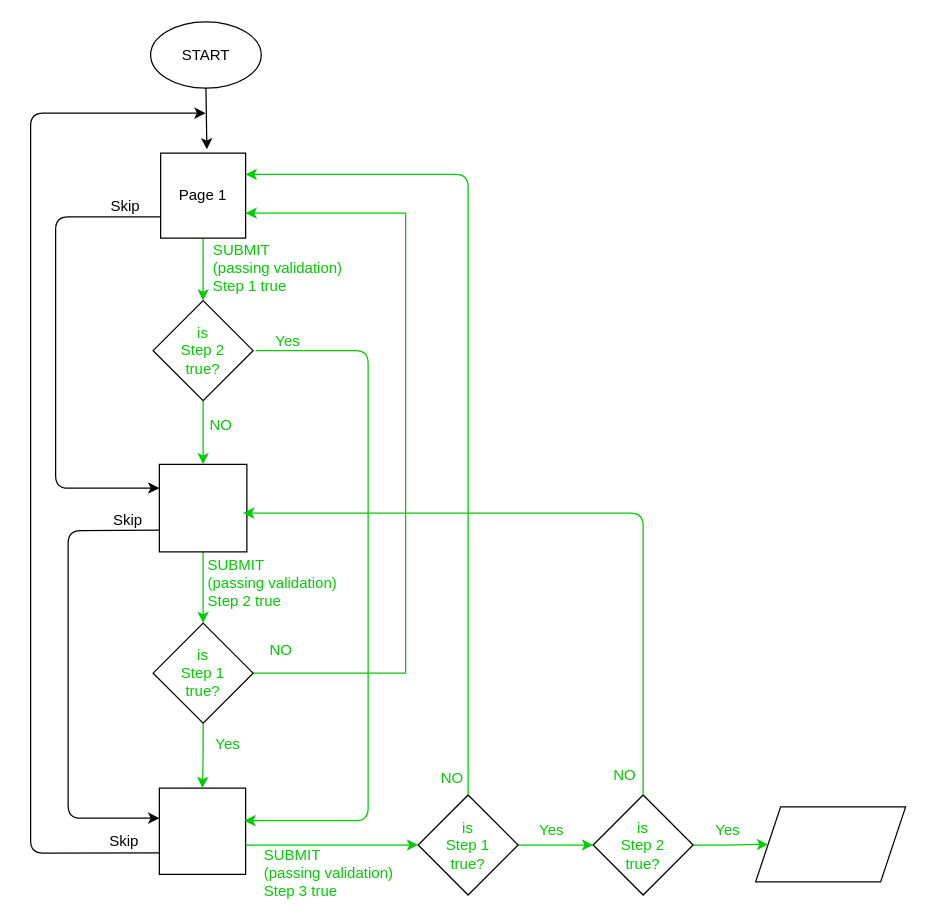
This 928x921 diagram has some shape labels left out. Each missing label, with the centre of its shape:
"Fetch data" belongs at (x=830, y=844).
"Page 2" belongs at (x=202, y=507).
"Page 3" belongs at (x=202, y=830).
